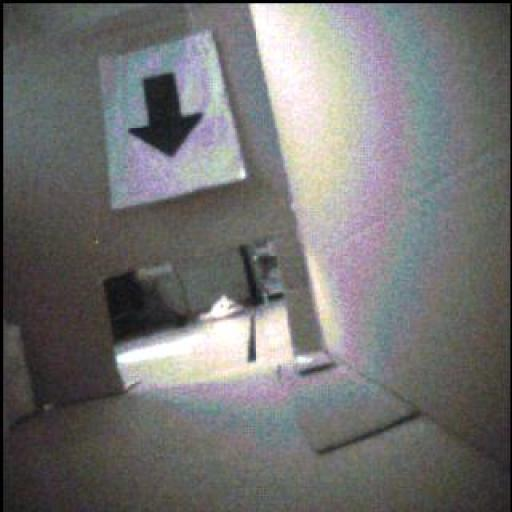arrow: (131, 75, 204, 158)
